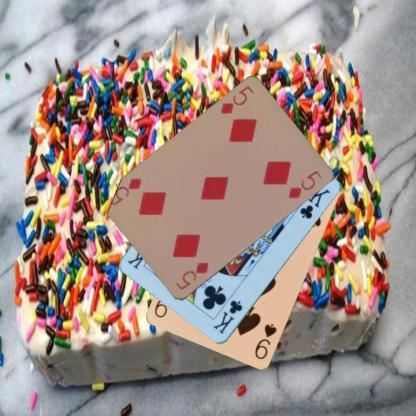5d: (172, 259, 210, 292), (218, 83, 255, 116)
9s: (252, 321, 278, 361)
Kc: (210, 298, 244, 336)
